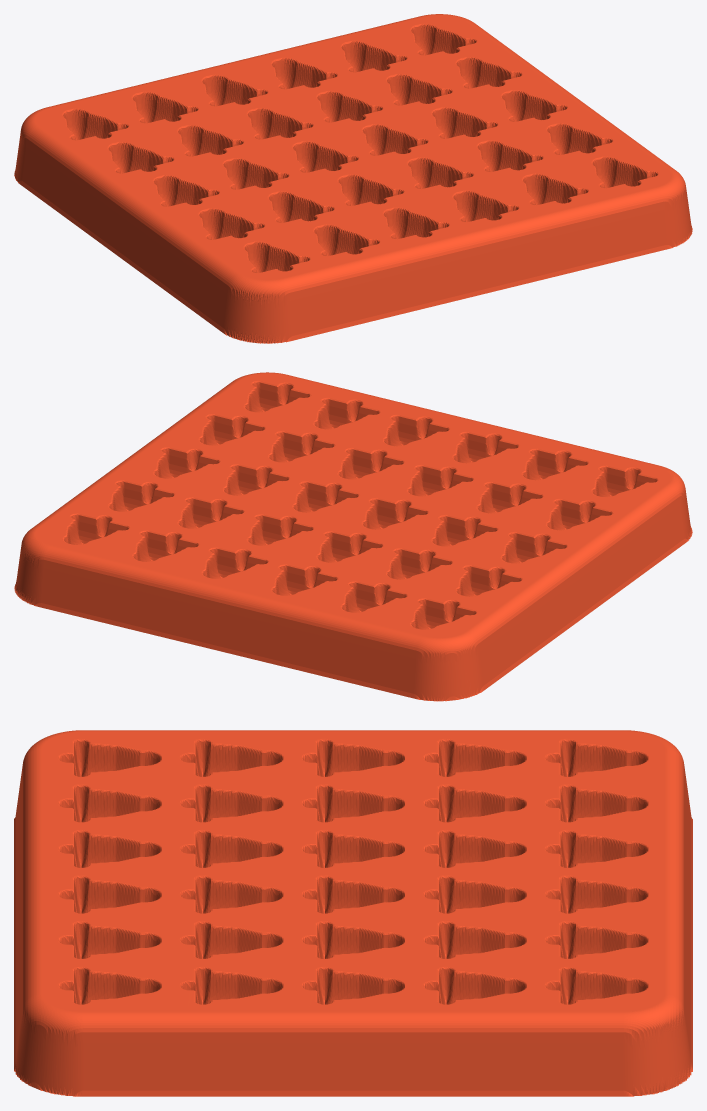
The model's file is mold.glb.
The picture shows the model from 3 angles, top to bottom: view 1: azimuth 30°, elevation 25°; view 2: azimuth 150°, elevation 25°; view 3: azimuth 270°, elevation 25°; orthographic projection. The views are drawn at different scales.
Parts seen in each view (by area): view 1: geometry_0; view 2: geometry_0; view 3: geometry_0.
Boxes of the visible parts, x1,y1,x2,y2 form: geometry_0: (14,14,692,343); geometry_0: (14,372,692,701); geometry_0: (14,730,692,1096).
Size of the model in its own units: 0.0932 by 0.0105 by 0.0882.
